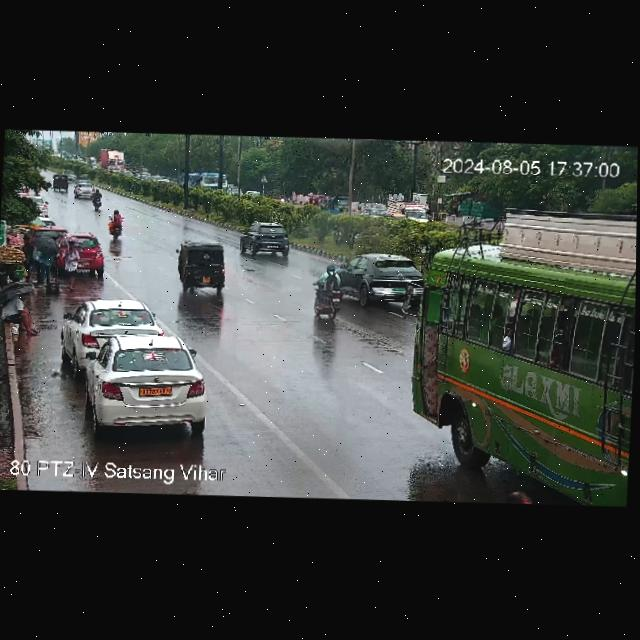bus: (405, 197, 637, 434)
car: (80, 332, 212, 432), (60, 296, 158, 364), (331, 252, 421, 308), (172, 239, 227, 294), (57, 231, 105, 276), (237, 220, 293, 258), (72, 182, 99, 199), (52, 171, 71, 194)
motorcycle: (308, 265, 346, 321), (103, 209, 128, 240), (89, 187, 103, 210)
person: (0, 289, 43, 336), (54, 232, 83, 292), (32, 235, 57, 286), (19, 233, 34, 281)
truck: (177, 171, 229, 194), (97, 146, 127, 174)
